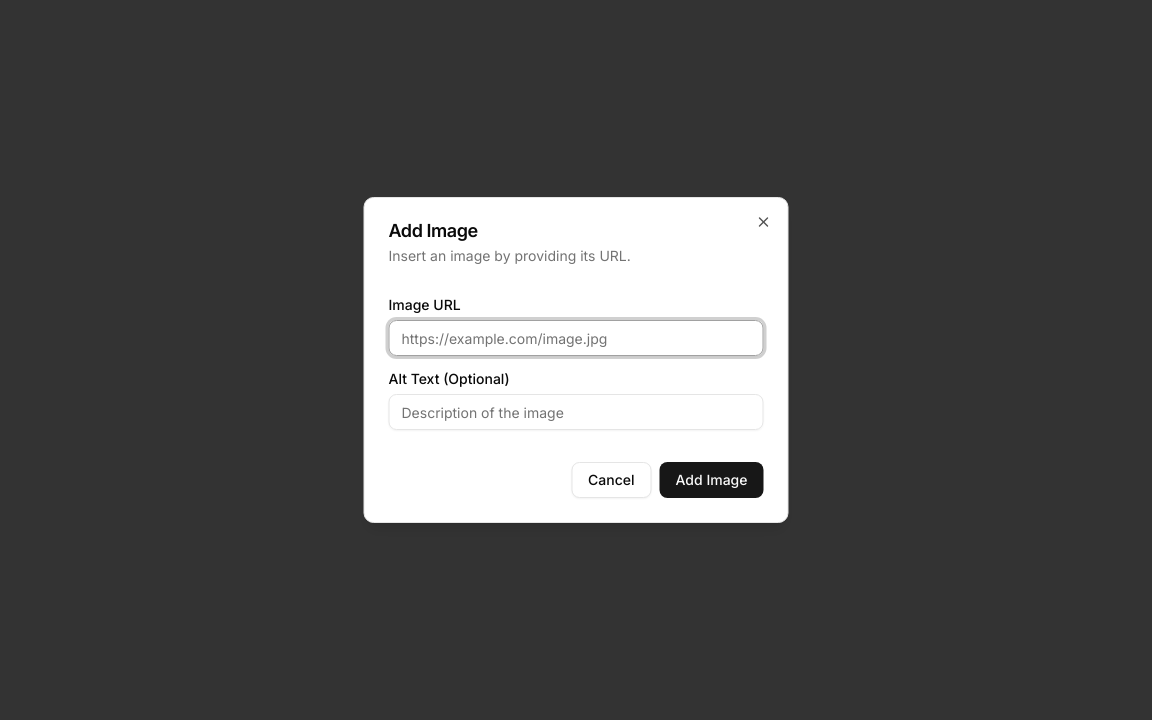
Scenario: ImageDialog Component › shows error when submitting without URL
Note: Submit without entering URL
Click the button "Add Image": [712, 480] box top-left (660, 462), bottom-right (764, 498)
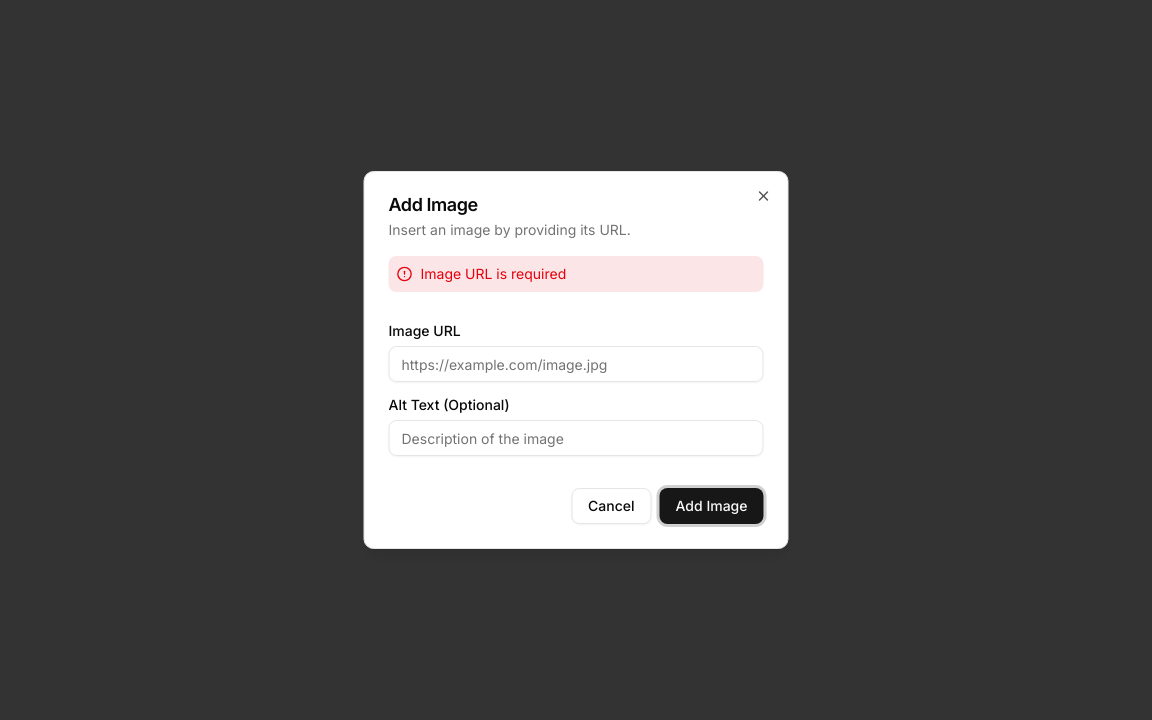
Check: the text "Image URL is required" is shown, box top-left (420, 264), bottom-right (566, 284)
